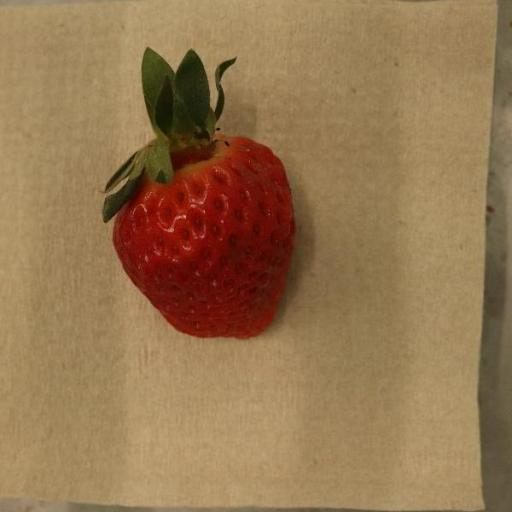Strawberry: (102, 48, 295, 340)
